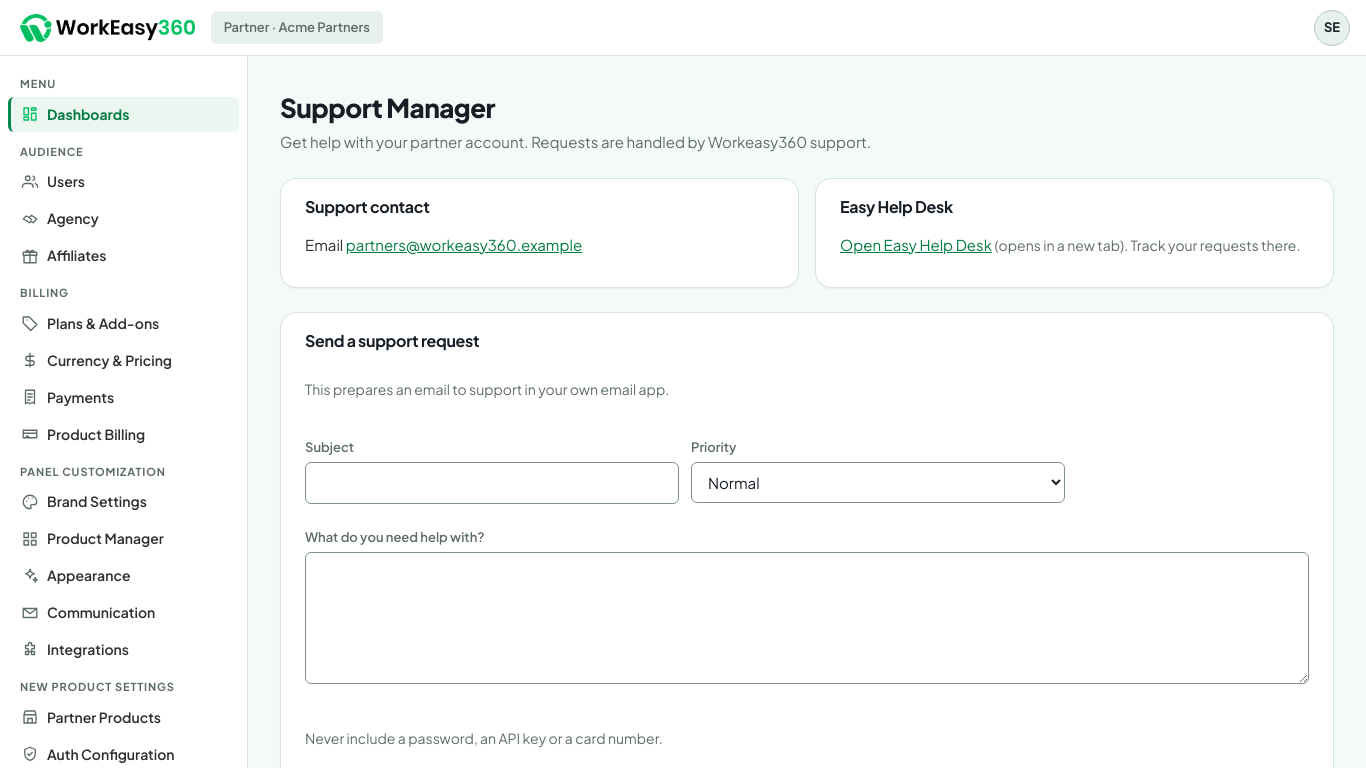
Test case: support manager › prepares an email in the person's own mail app and sends nothing itself
The width and height of the screenshot is (1366, 768).
Step 1. Type "Payout question" into the field labelled "Subject" → (492, 483), box [305,462,679,504]
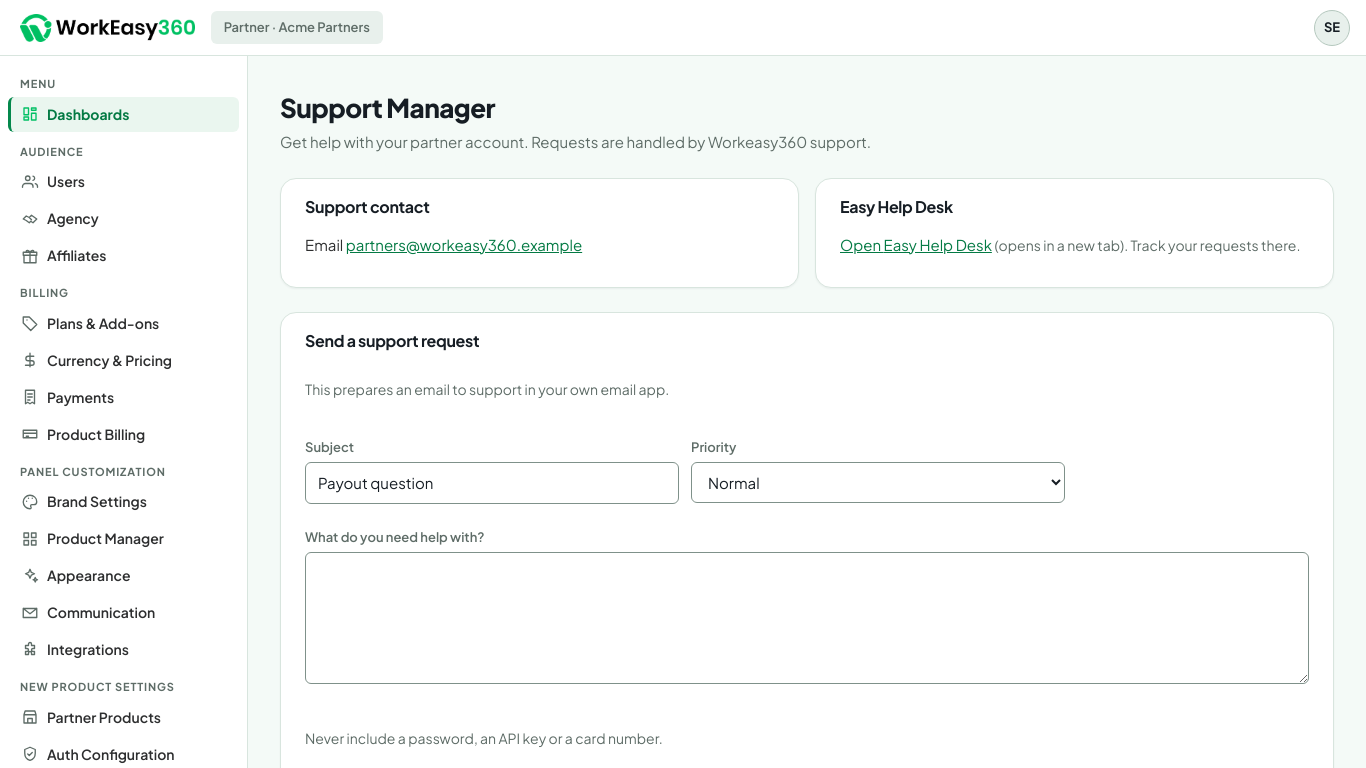
Step 2. Type "Where is my payout?" into the text box labelled "What do you need help with?" → (807, 618), box [305,552,1309,684]
(page scrolled)
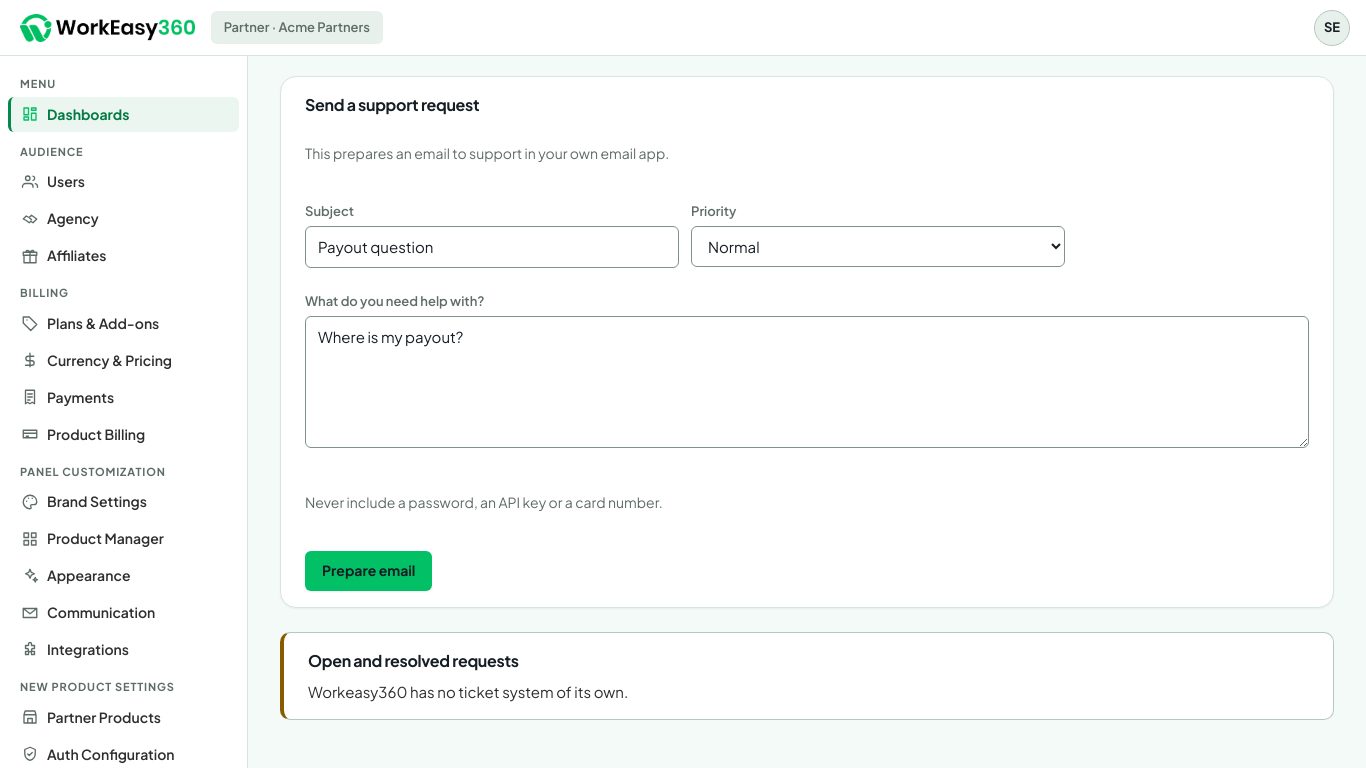
Expected: the button "Prepare email" is enabled, [305,550,432,590]
